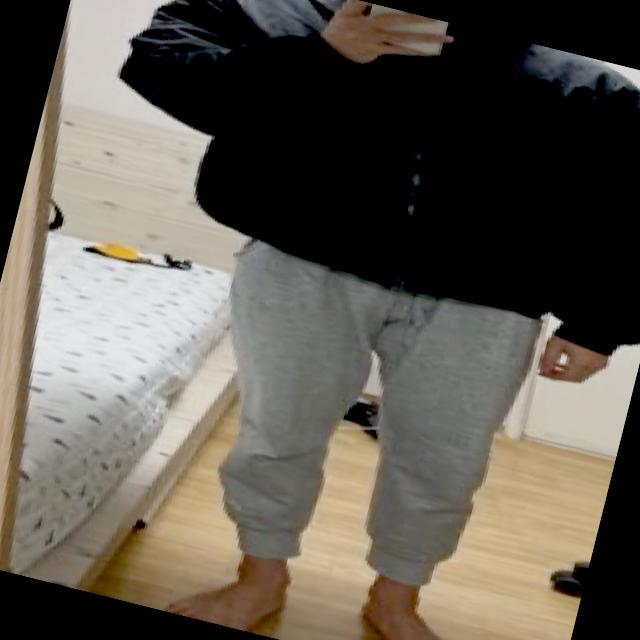padding: (80, 0, 640, 359)
trainingpants: (160, 227, 550, 608)
